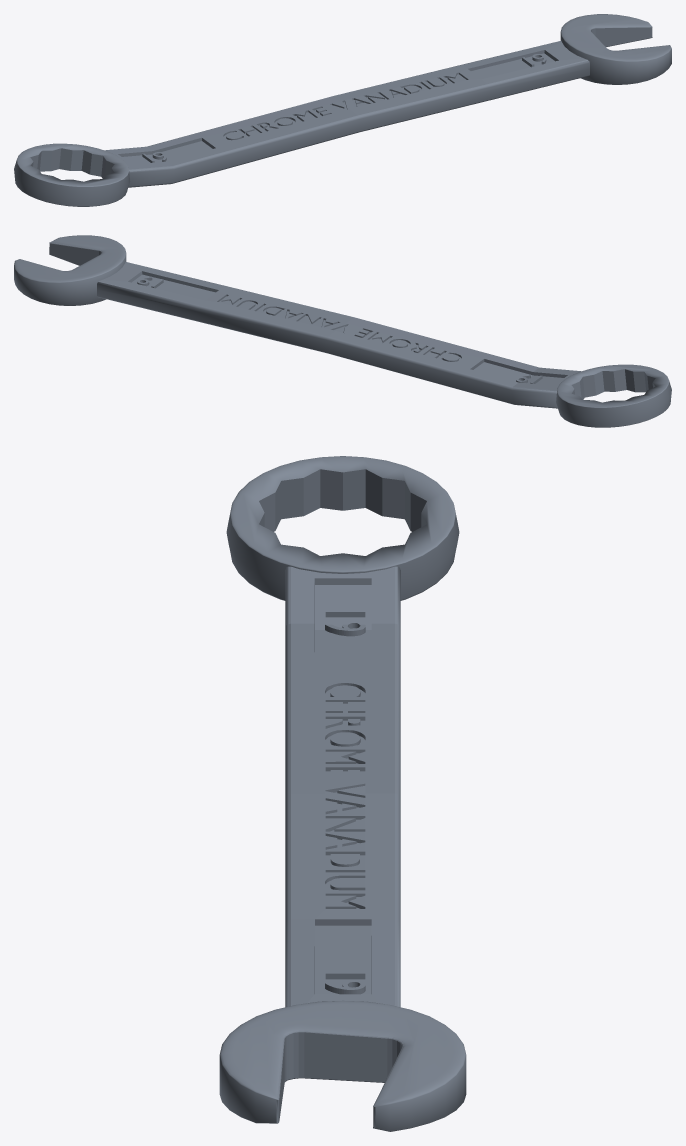
File: wrench.glb
3 views of the same model, one above another, from view 1: azimuth 30°, elevation 25°; view 2: azimuth 150°, elevation 25°; view 3: azimuth 270°, elevation 25° (orthographic). The views are drawn at different scales.
Parts seen in each view (by area): view 1: Cube_1; view 2: Cube_1; view 3: Cube_1.
Boxes of the visible parts, box(x1,y1,x2,y2) form: Cube_1: box(14, 14, 671, 206); Cube_1: box(14, 235, 671, 427); Cube_1: box(219, 456, 466, 1131).
Bounding box in the file's own units: 7.61 × 0.3977 × 1.28.
